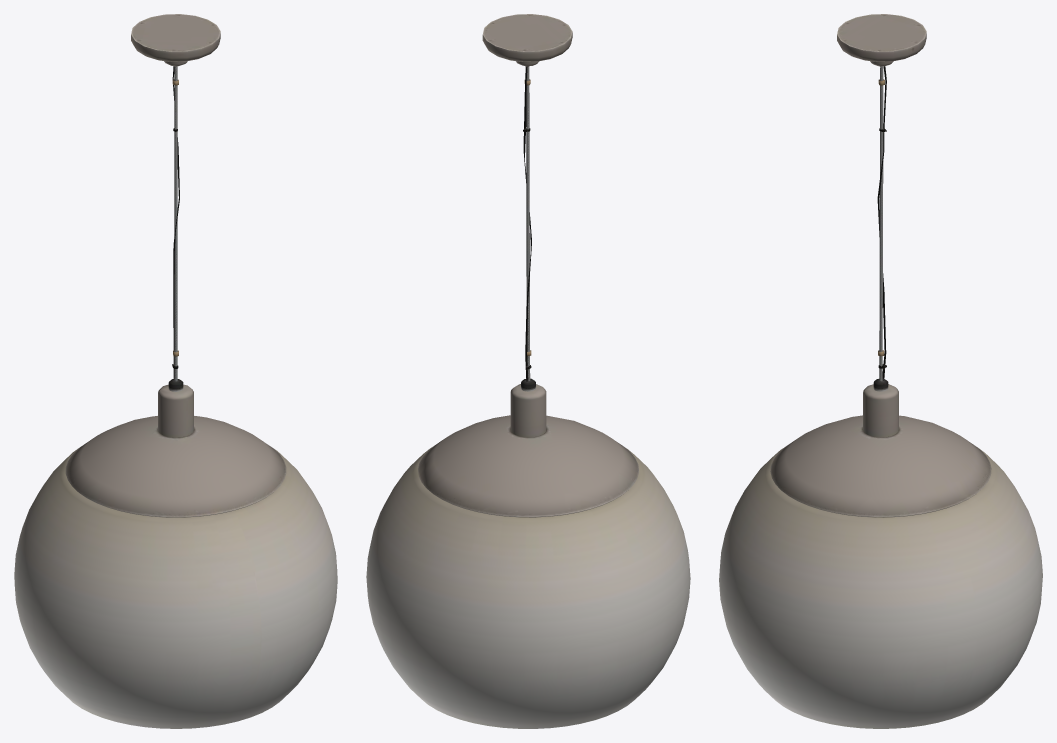
The model's file is modern_ceiling_lamp_01.glb.
The picture shows the model from 3 angles, left to right: view 1: azimuth 30°, elevation 25°; view 2: azimuth 150°, elevation 25°; view 3: azimuth 270°, elevation 25°; orthographic projection.
Visible parts, largest first — view 1: modern_ceiling_lamp_01; view 2: modern_ceiling_lamp_01; view 3: modern_ceiling_lamp_01.
Boxes of the visible parts, x1,y1,x2,y2 form: modern_ceiling_lamp_01: [14, 14, 337, 728]; modern_ceiling_lamp_01: [366, 14, 690, 728]; modern_ceiling_lamp_01: [719, 14, 1042, 728].
Bounding box in the file's own units: 0.4316 × 0.9512 × 0.4317.
Materials: 2 (2 with a texture image).
